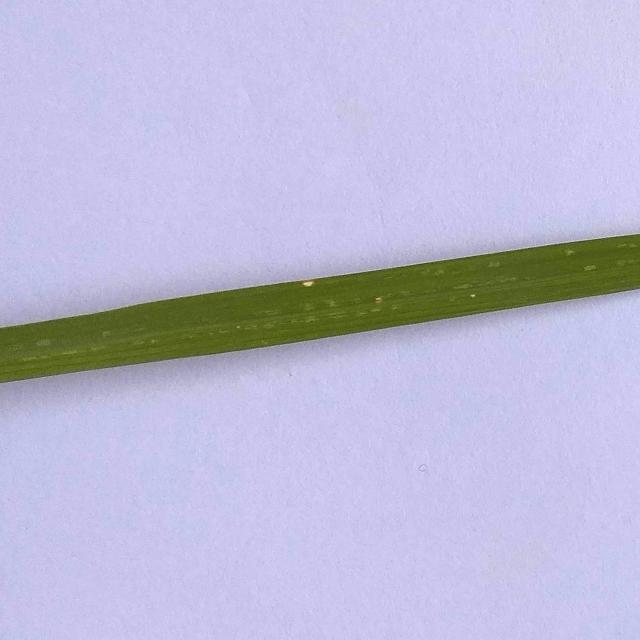Blast: (372, 292, 384, 309), (298, 275, 320, 284)
